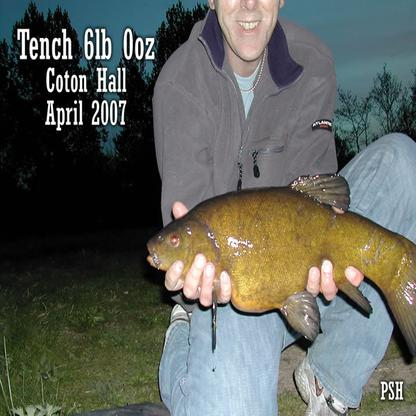fish: (143, 170, 415, 361)
